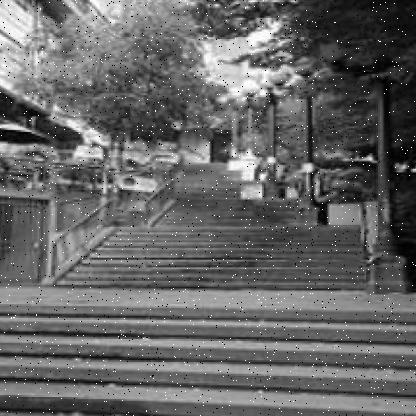stair_up: (64, 258, 319, 416)
